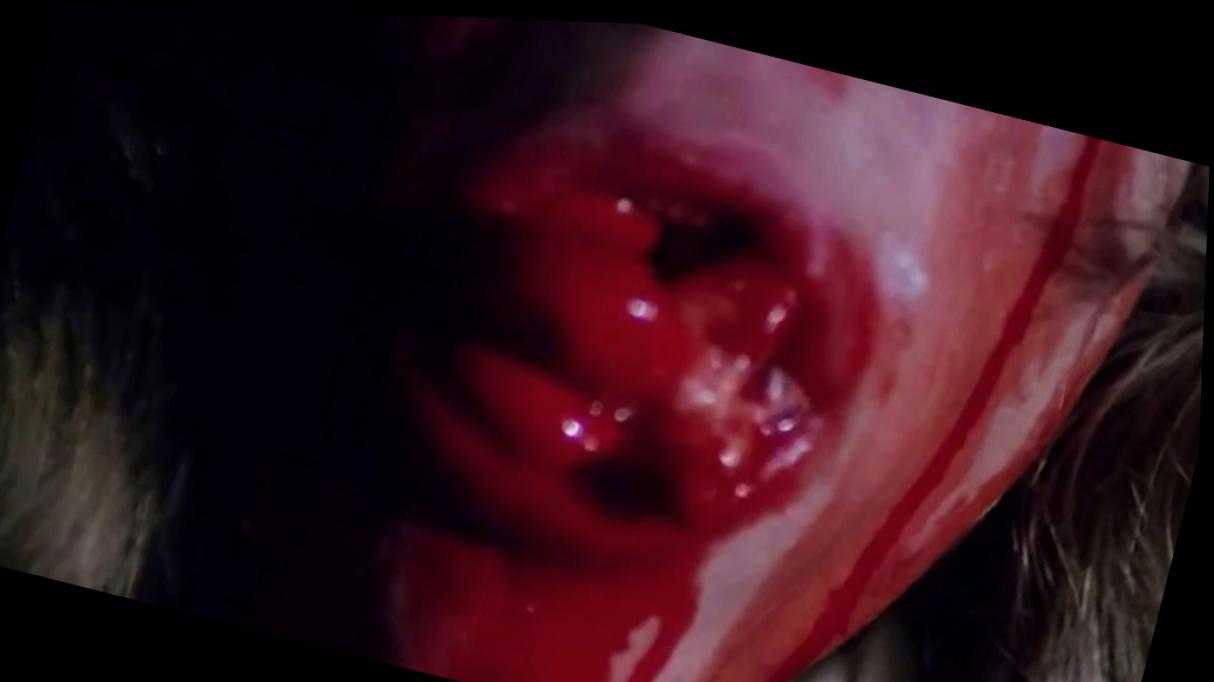Fire: (390, 98, 1188, 682)
